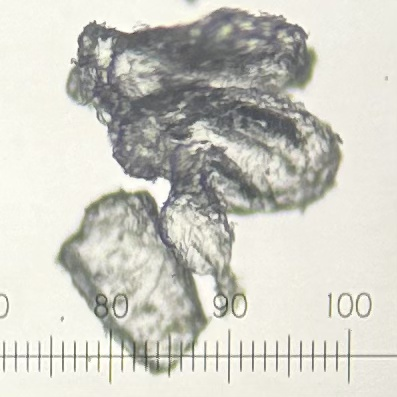microplastic: (107, 84, 347, 305), (53, 187, 211, 376), (65, 7, 319, 119)
